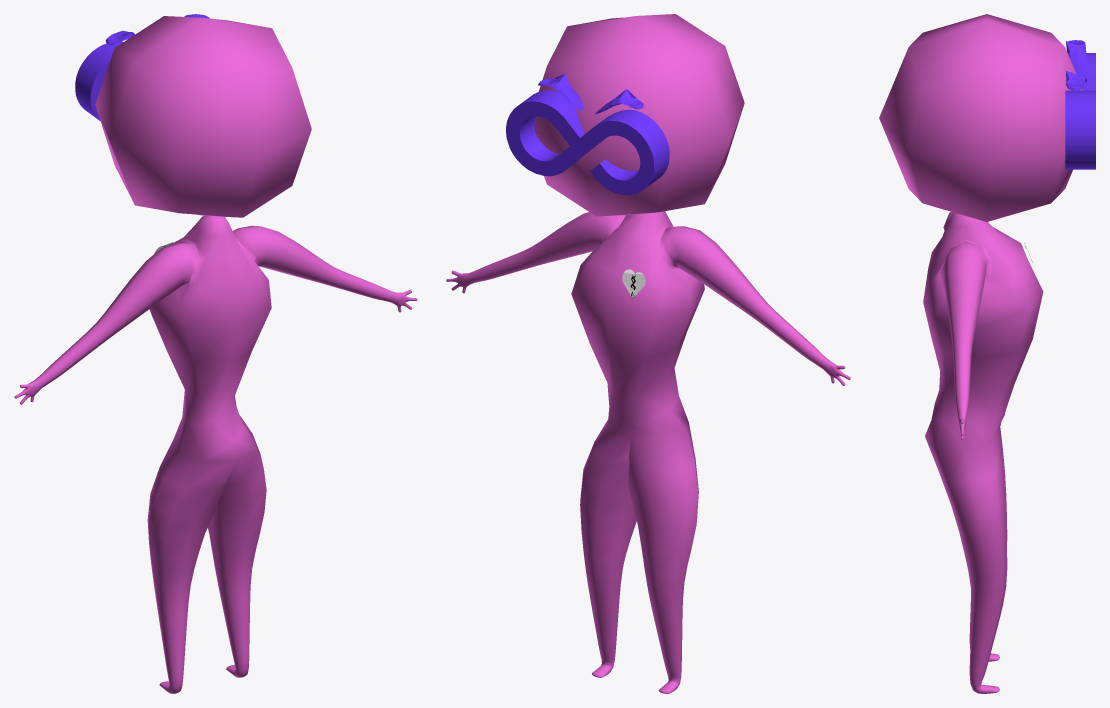
File: Nity.fbx
3 renders of one model, left to right at view 1: azimuth 30°, elevation 25°; view 2: azimuth 150°, elevation 25°; view 3: azimuth 270°, elevation 25°, orthographic.
Visible parts, largest first — view 1: InfinityWoman V1, W Eyes; view 2: InfinityWoman V1, W Eyes, W Brows; view 3: InfinityWoman V1, W Eyes, W Brows.
Boxes of the visible parts, left/top/right/bottom form: InfinityWoman V1: left=14, top=16, right=417, bottom=693; W Eyes: left=75, top=41, right=123, bottom=120; InfinityWoman V1: left=446, top=14, right=850, bottom=693; W Eyes: left=506, top=90, right=669, bottom=195; W Brows: left=538, top=74, right=643, bottom=114; InfinityWoman V1: left=879, top=14, right=1082, bottom=693; W Eyes: left=1065, top=53, right=1095, bottom=169; W Brows: left=1066, top=40, right=1086, bottom=91.
Bounding box in the file's own units: 176 × 278 × 83.32.
